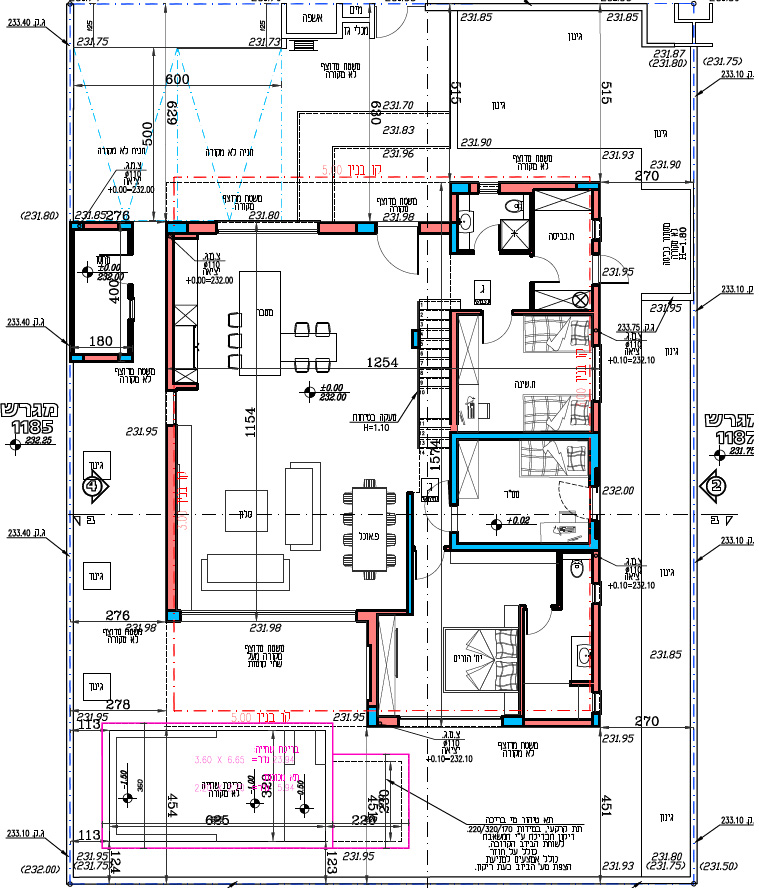window: (182, 610, 357, 622), (216, 221, 318, 235), (587, 346, 602, 401), (477, 181, 499, 194)
